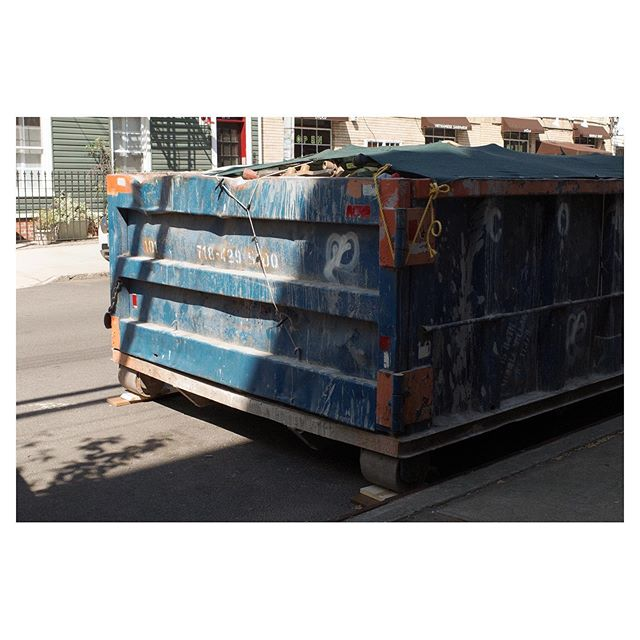dumpster: (118, 143, 640, 476)
